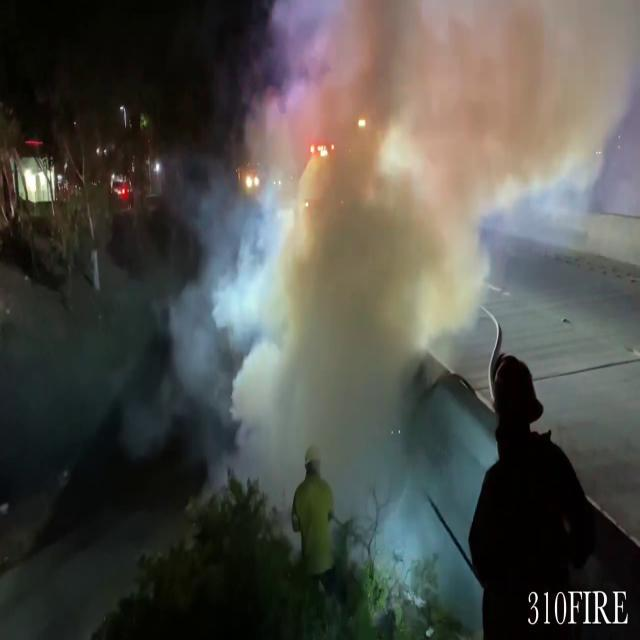Smoke: (194, 0, 561, 498)
